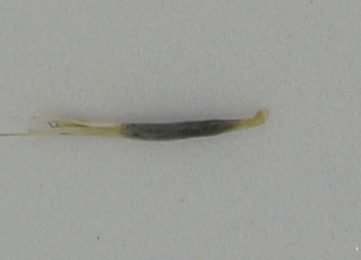เมล้ดปลายพู่กัน: (1, 106, 275, 144)
